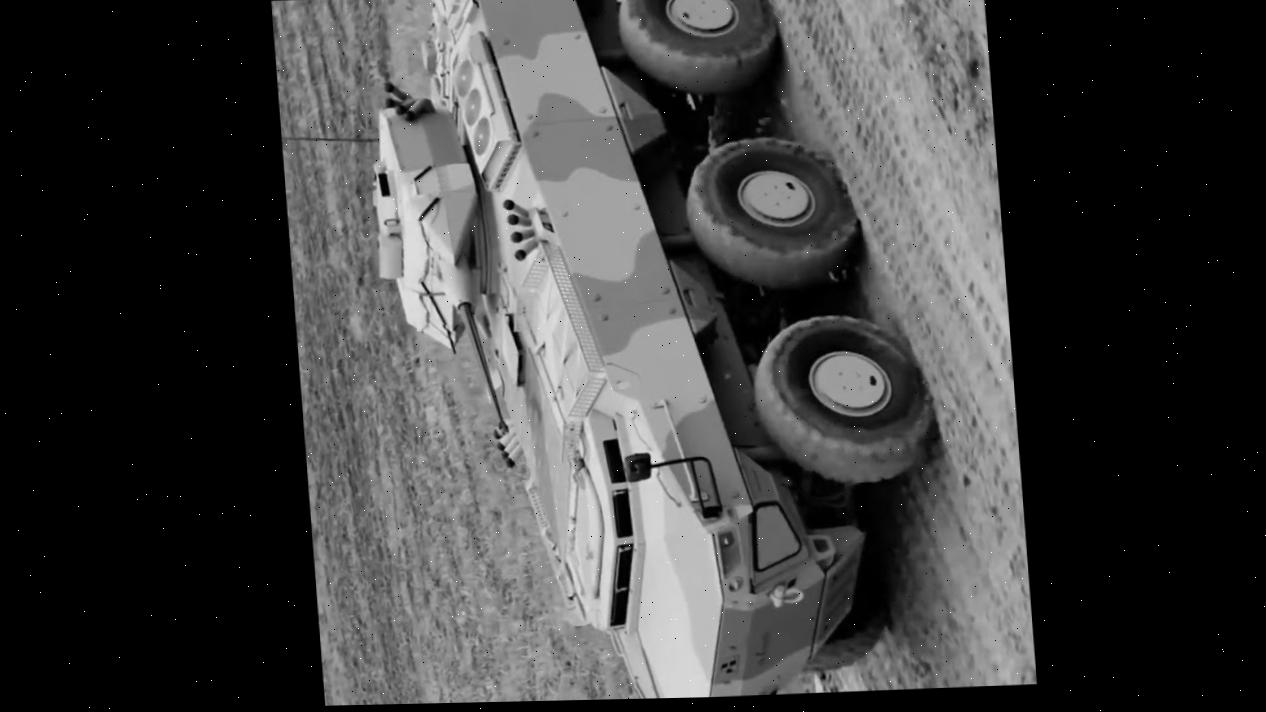armored_car: (335, 0, 959, 705)
